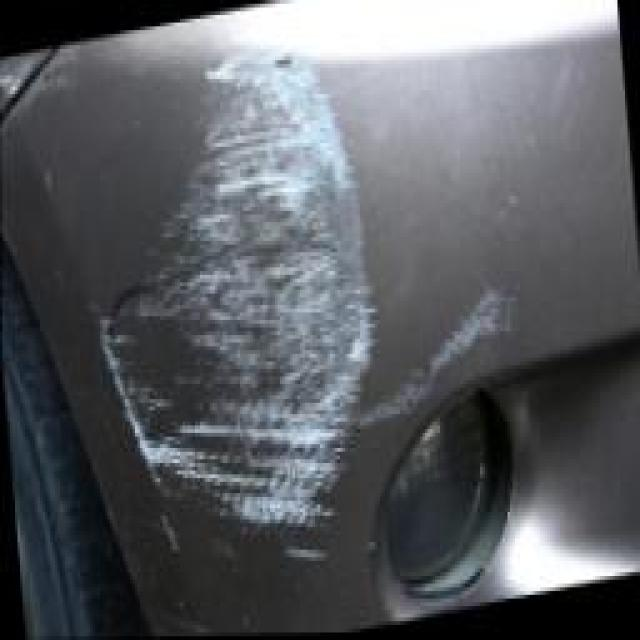Bumper: (70, 0, 580, 639)
